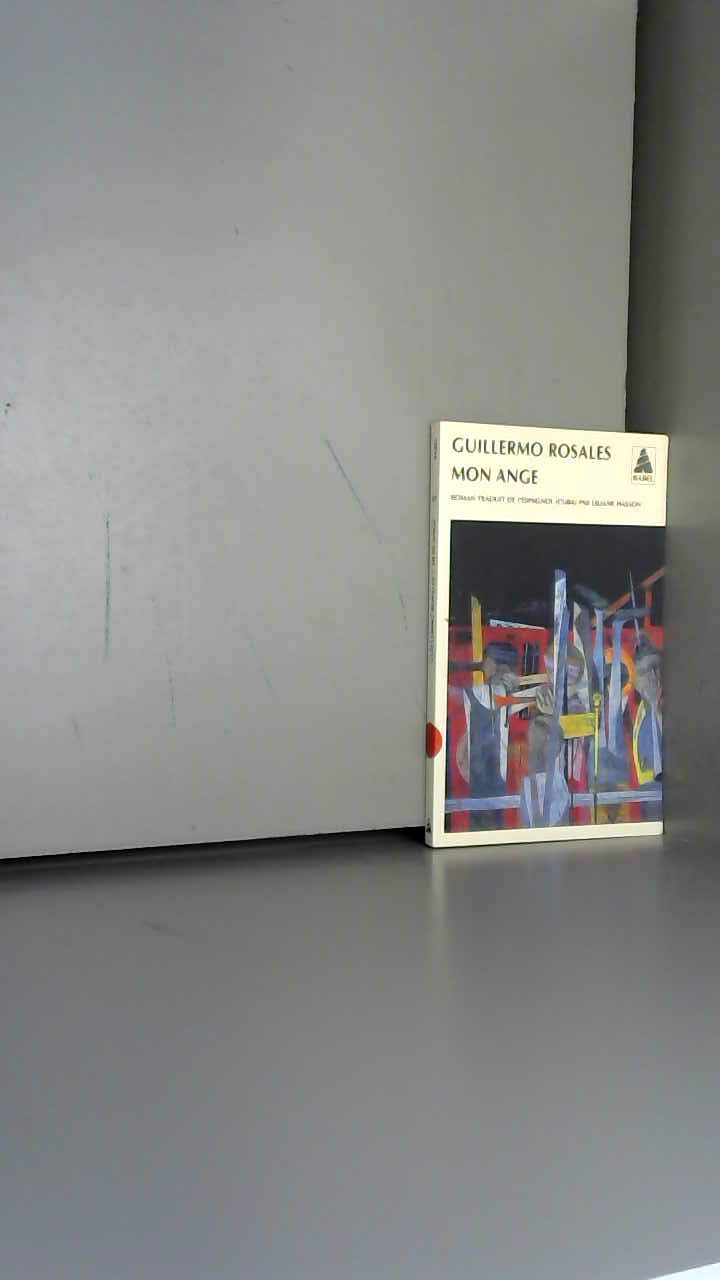book: (410, 390, 720, 902)
